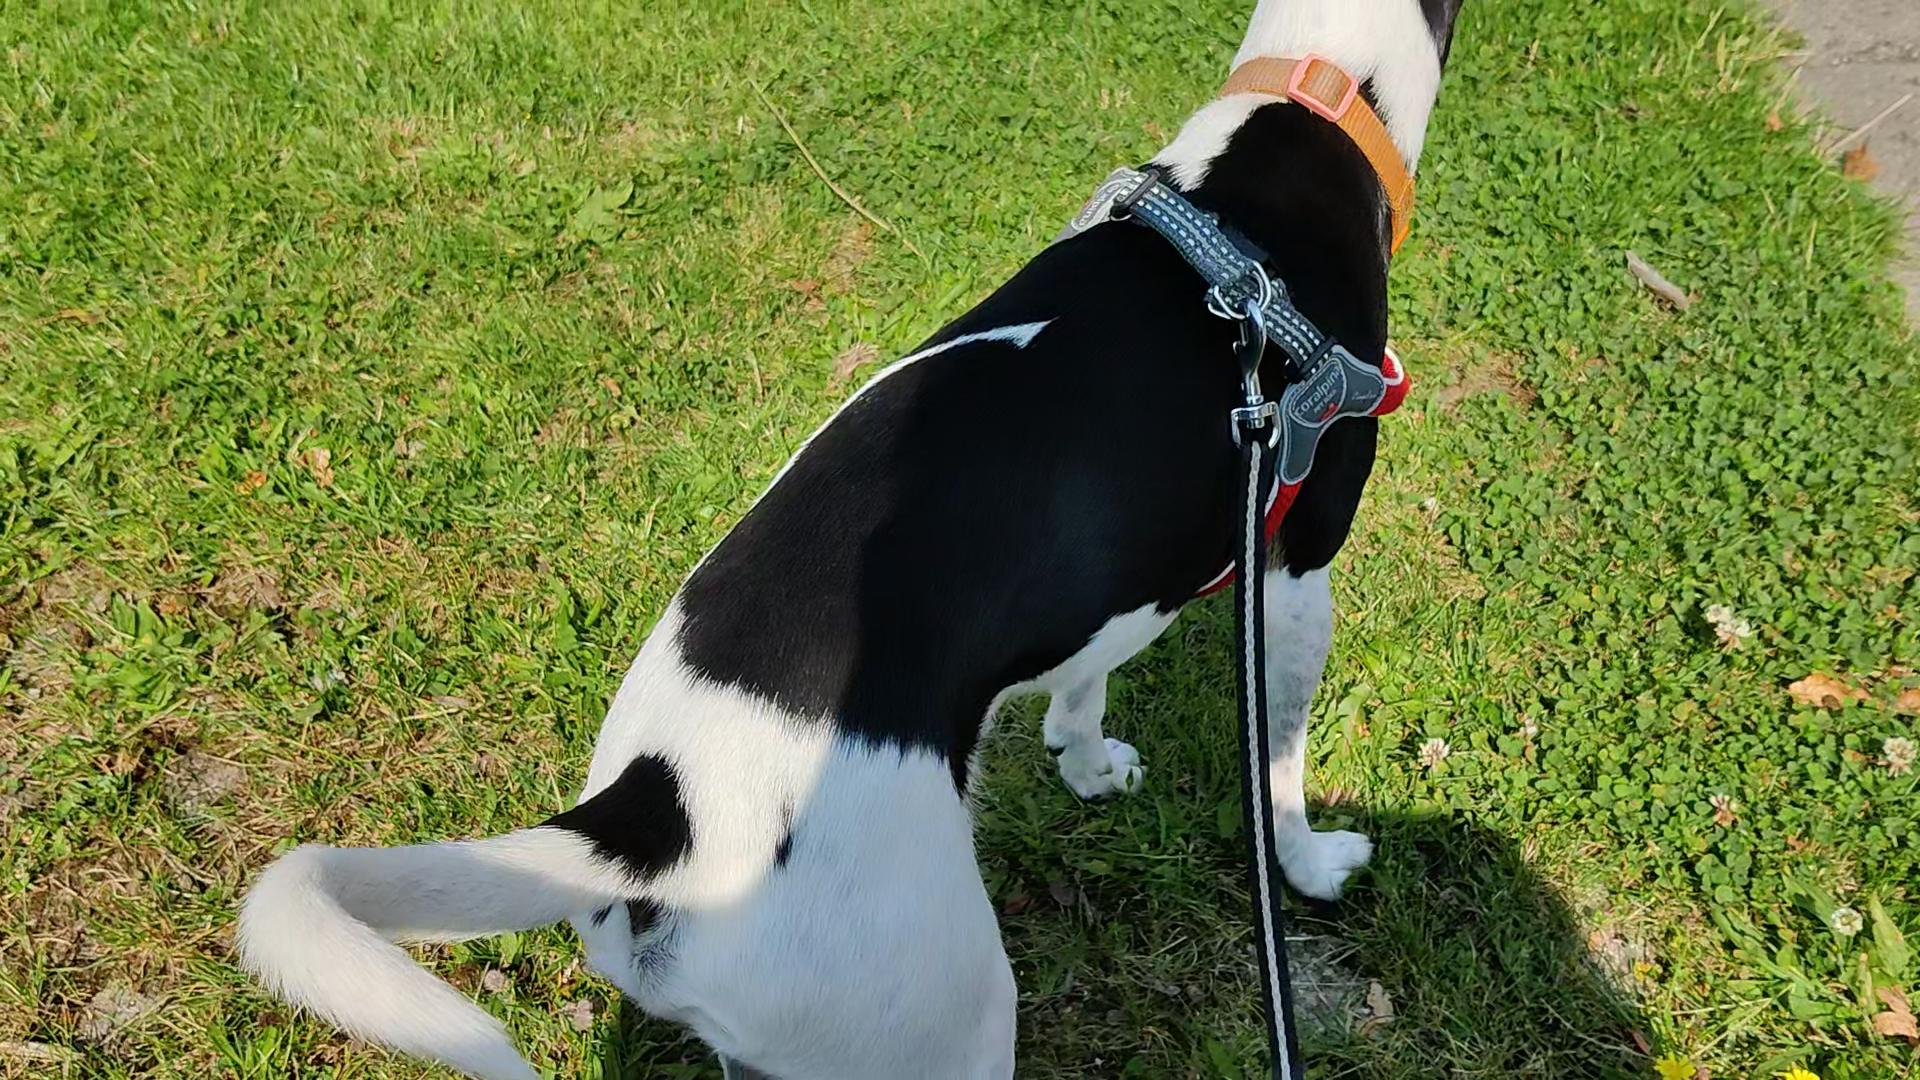Dog: (222, 0, 1472, 1080)
